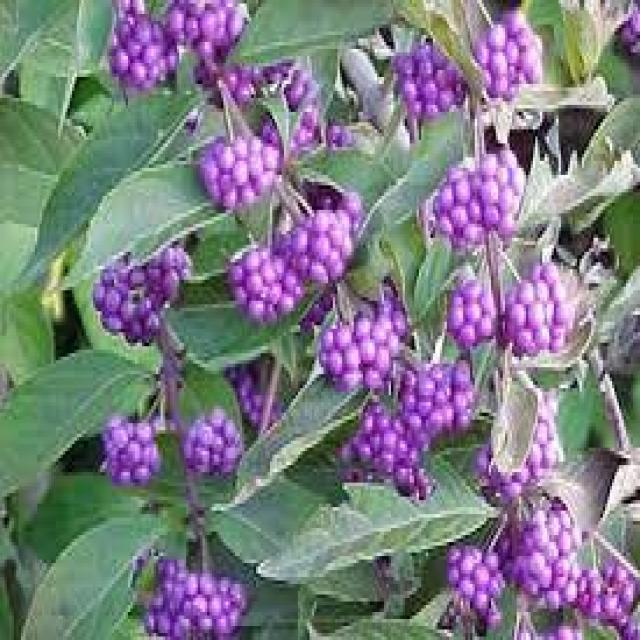organic waste: (327, 308, 464, 500), (420, 259, 583, 353), (81, 236, 198, 352), (90, 406, 257, 486), (126, 556, 249, 640), (510, 490, 588, 619), (99, 9, 208, 75), (222, 240, 302, 327), (440, 161, 526, 241), (476, 16, 555, 96), (194, 138, 285, 201), (397, 46, 464, 130), (436, 530, 502, 614)
